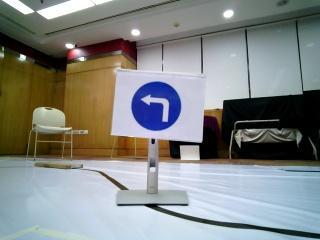left: (117, 70, 197, 137)
